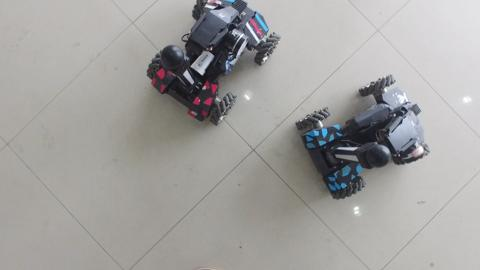chariot: (284, 68, 436, 204), (140, 1, 286, 133)
